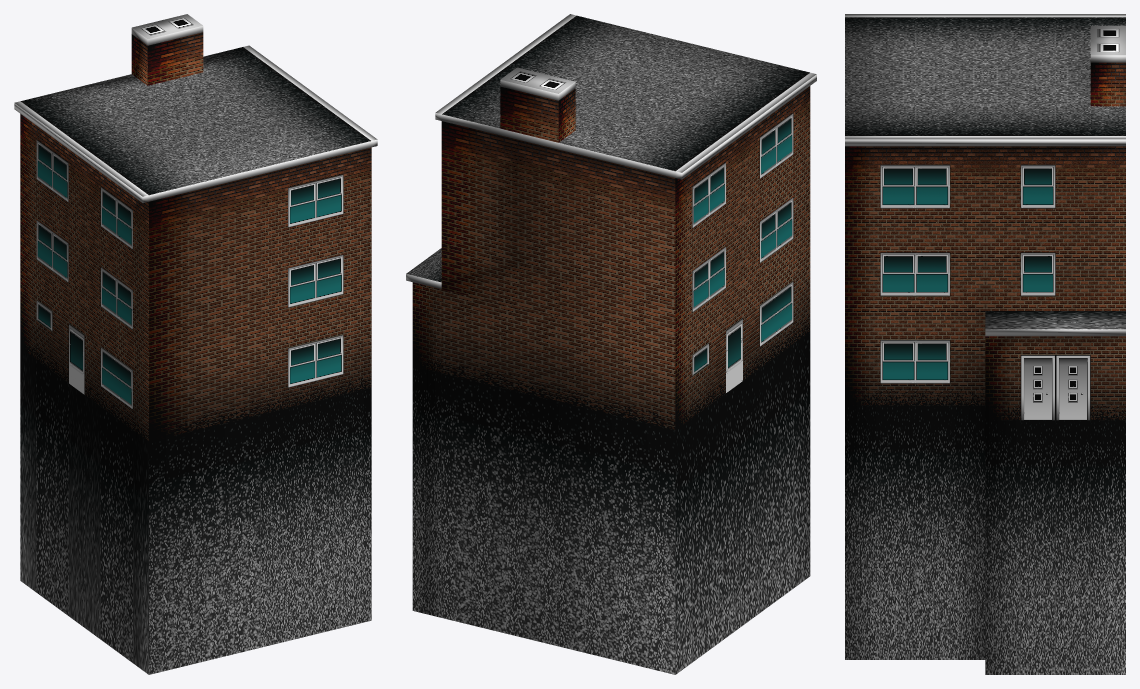
File: maisonet_mod1_1a.fbx
3 renders of one model, left to right at view 1: azimuth 30°, elevation 25°; view 2: azimuth 150°, elevation 25°; view 3: azimuth 270°, elevation 25°, orthographic. The views are drawn at different scales.
Parts seen in each view (by area): view 1: maisonet_mod1_1a; view 2: maisonet_mod1_1a; view 3: maisonet_mod1_1a.
Boxes of the visible parts, bbox=[...] form: maisonet_mod1_1a: bbox=[14, 14, 377, 674]; maisonet_mod1_1a: bbox=[406, 14, 816, 674]; maisonet_mod1_1a: bbox=[845, 14, 1125, 674].
Size of the model in its own units: 1062 by 2033 by 900.
